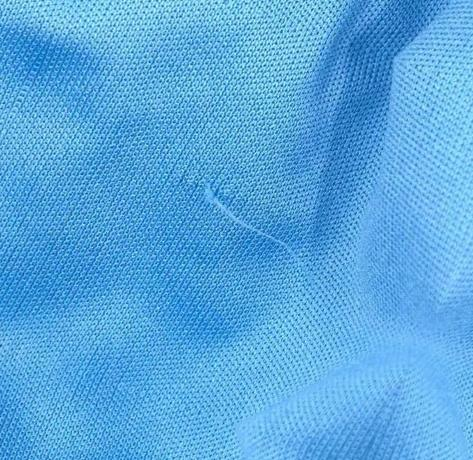snag: (197, 179, 301, 266)
